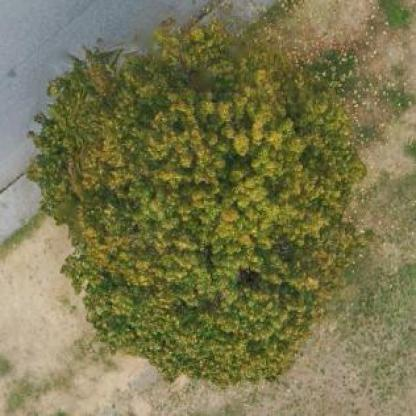Deciduous Tree: (35, 23, 370, 369)
